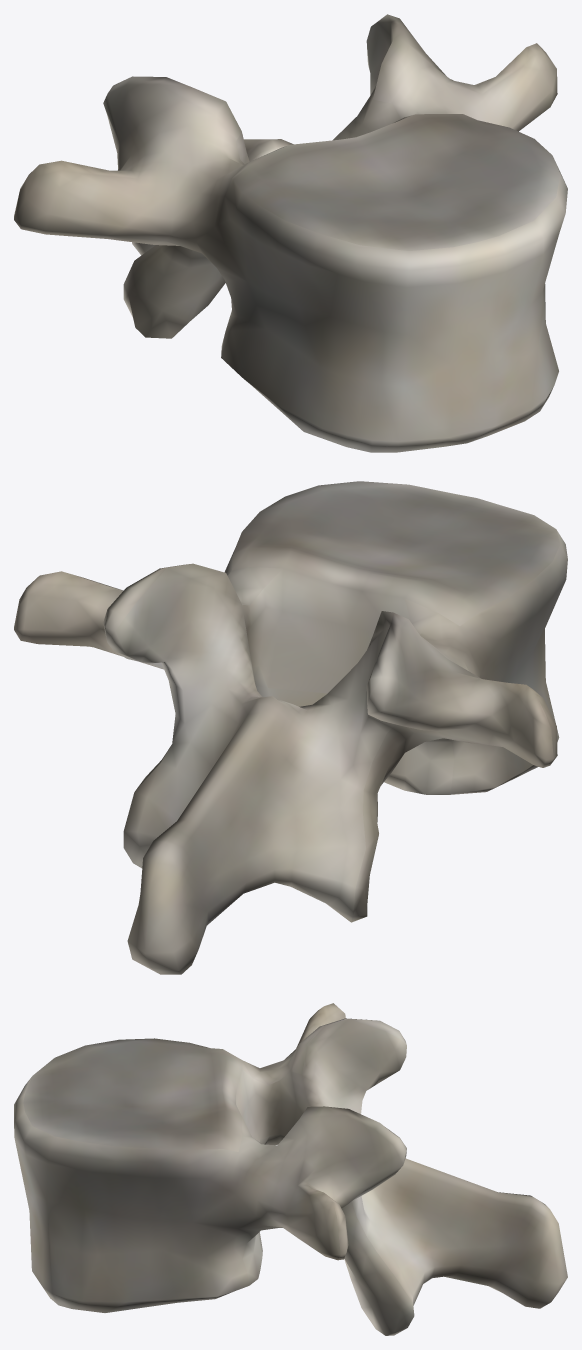
File: bone-lumbar.glb
3 renders of one model, top to bottom at view 1: azimuth 30°, elevation 25°; view 2: azimuth 150°, elevation 25°; view 3: azimuth 270°, elevation 25°, orthographic. The views are drawn at different scales.
Visible parts, largest first — view 1: L3_vertebra; view 2: L3_vertebra; view 3: L3_vertebra.
Boxes of the visible parts, bbox=[...] form: L3_vertebra: bbox=[14, 14, 567, 452]; L3_vertebra: bbox=[14, 481, 567, 974]; L3_vertebra: bbox=[14, 1003, 567, 1335].
Bounding box in the file's own units: 0.0789 × 0.041 × 0.0855.
Materials: 1 (1 with a texture image).
